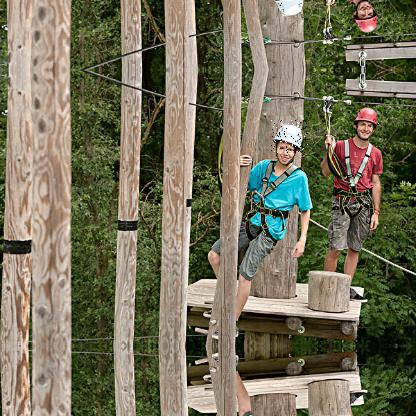safetyhelmet: (272, 120, 310, 154), (351, 104, 383, 129)
